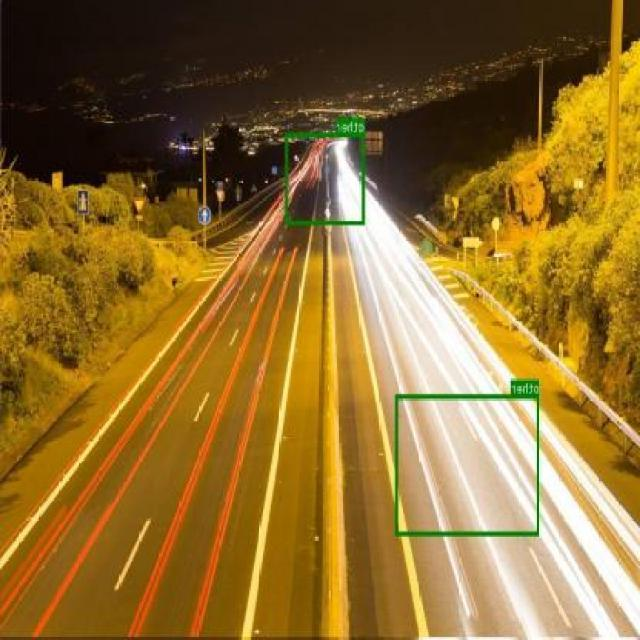other: (396, 394, 541, 536), (286, 132, 366, 225)
